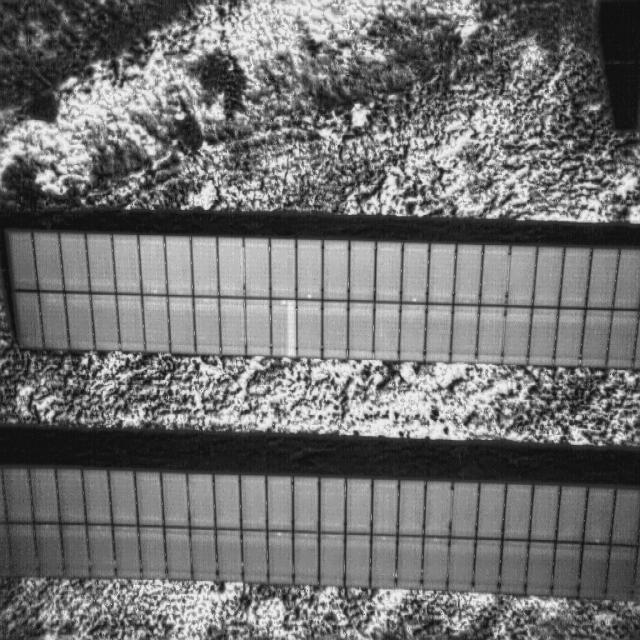diode: (287, 302, 296, 352)
